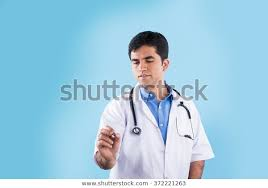Indian_Male: (131, 33, 162, 91)
